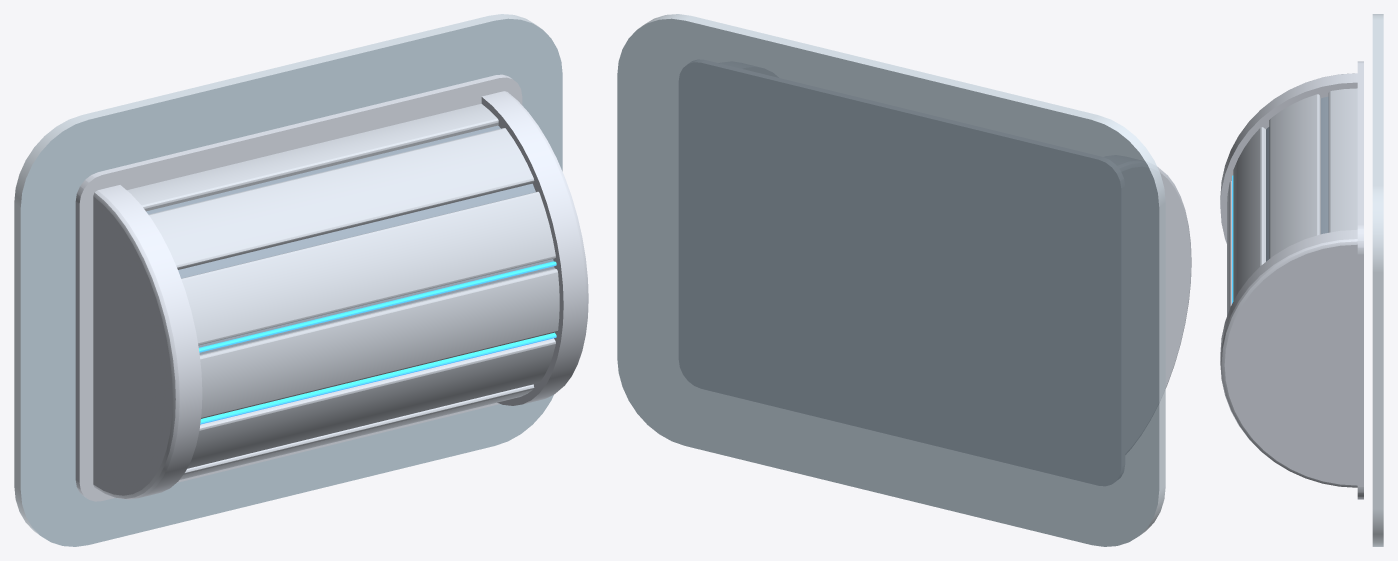
The model's file is picker-drum-wheel-059a3e.glb.
3 views of the same model, side by side, from view 1: azimuth 30°, elevation 25°; view 2: azimuth 150°, elevation 25°; view 3: azimuth 270°, elevation 25° (orthographic). The views are drawn at different scales.
Parts seen in each view (by area): view 1: drum, plate, accent; view 2: plate, drum; view 3: drum, plate, accent.
Part boxes in pixels (box(x1,y1,x2,y2)): drum: box(75, 74, 588, 501); plate: box(14, 14, 562, 546); accent: box(199, 261, 556, 424); plate: box(617, 14, 1165, 546); drum: box(679, 60, 1191, 485); drum: box(1220, 61, 1363, 499); plate: box(1372, 14, 1383, 546); accent: box(1232, 175, 1233, 303).
Bounding box in the file's own units: 0.24 × 0.18 × 0.075.
